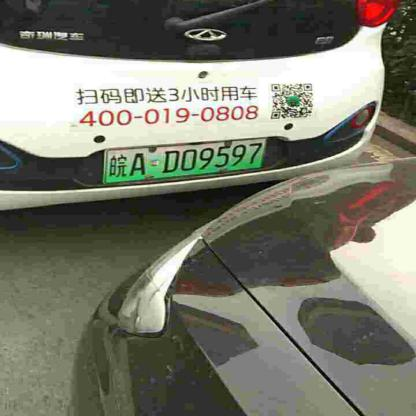lp: (107, 138, 266, 184)
